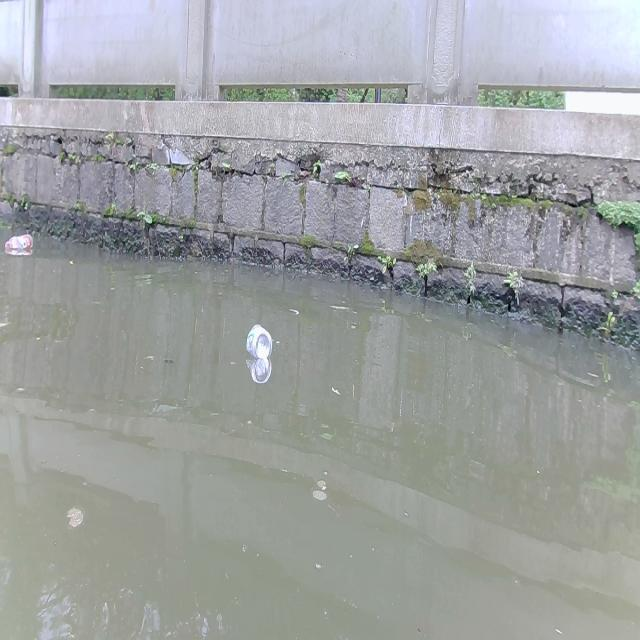bottle: (246, 323, 272, 358), (5, 233, 33, 250)
